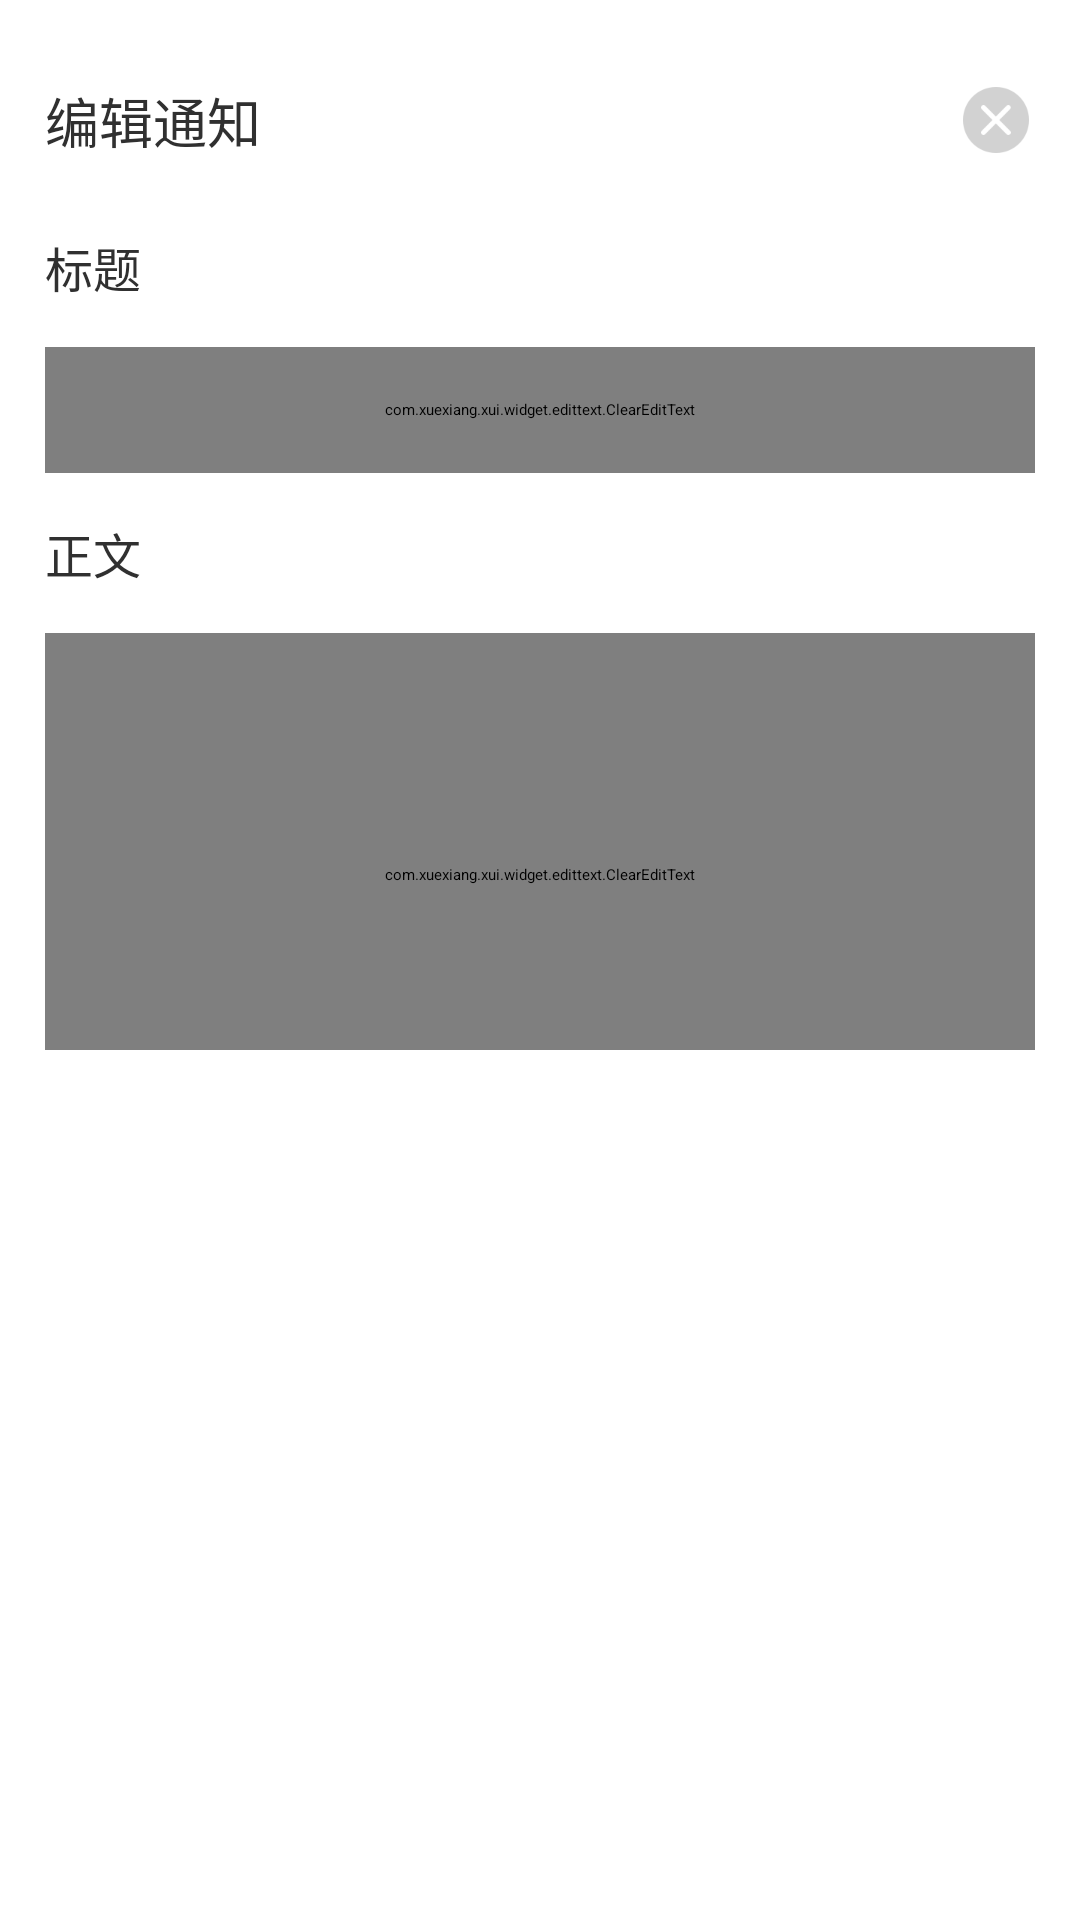

Icons on this 1080 x 1920 Android screen, each with the point to tap as (x=x, y=y):
esc: (x=996, y=120)
